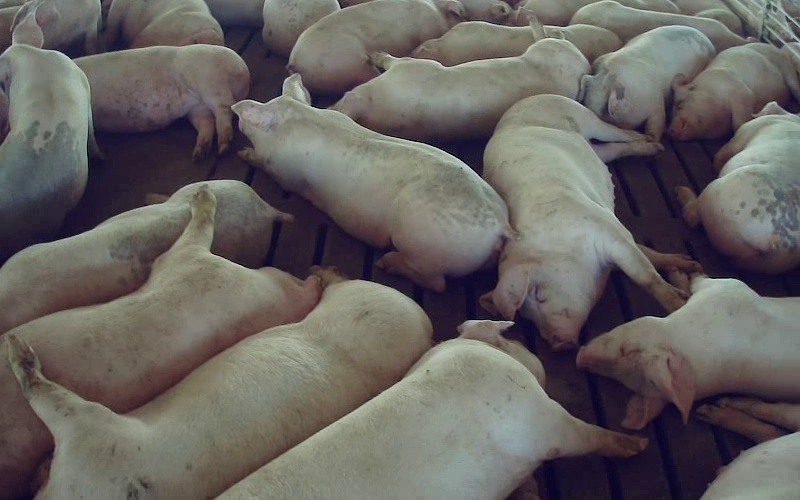pig: (0, 189, 319, 499), (10, 268, 430, 499), (220, 321, 644, 499), (233, 74, 510, 290), (481, 94, 698, 349), (0, 180, 291, 333), (576, 271, 799, 428), (0, 7, 92, 258), (677, 102, 799, 273), (74, 44, 249, 159), (582, 25, 715, 140), (669, 43, 799, 139), (570, 0, 750, 52), (105, 0, 223, 49), (11, 0, 100, 56)
